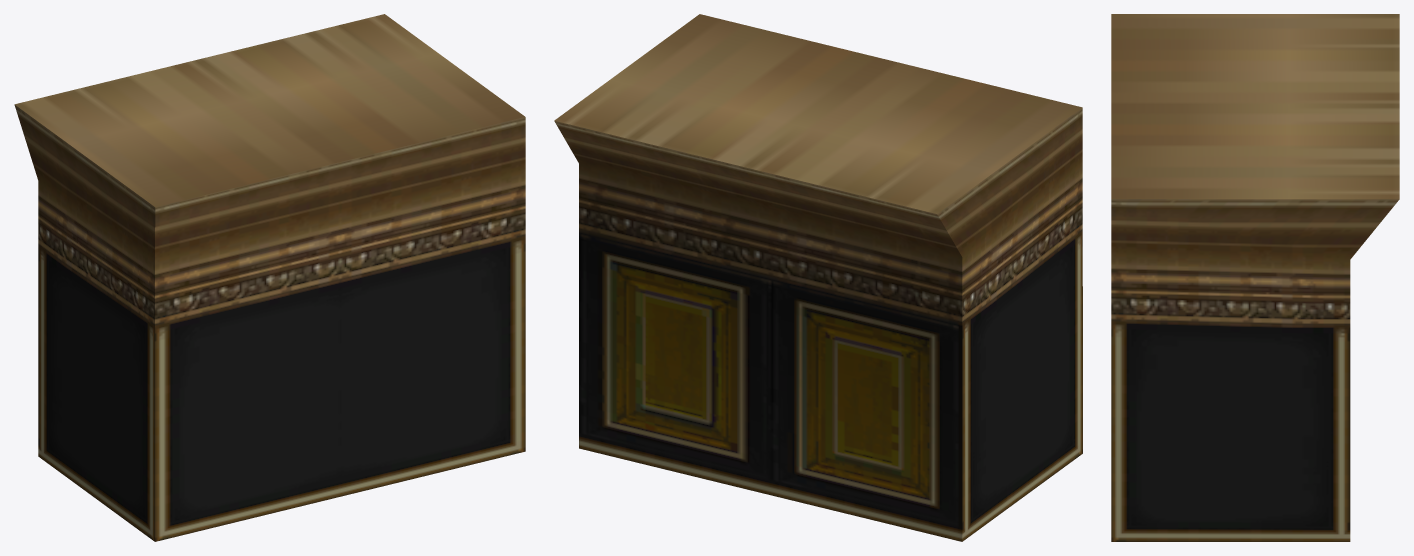
File: furni_0200321_03.FBX
3 views of the same model, side by side, from view 1: azimuth 30°, elevation 25°; view 2: azimuth 150°, elevation 25°; view 3: azimuth 270°, elevation 25° (orthographic). The views are drawn at different scales.
Parts seen in each view (by area): view 1: furni_0200321_03; view 2: furni_0200321_03; view 3: furni_0200321_03.
Part boxes in pixels (left/top/right/bottom): furni_0200321_03: left=14, top=14, right=525, bottom=541; furni_0200321_03: left=554, top=14, right=1082, bottom=541; furni_0200321_03: left=1111, top=14, right=1399, bottom=541.
Size of the model in its own units: 81.43 by 70.29 by 53.58.
